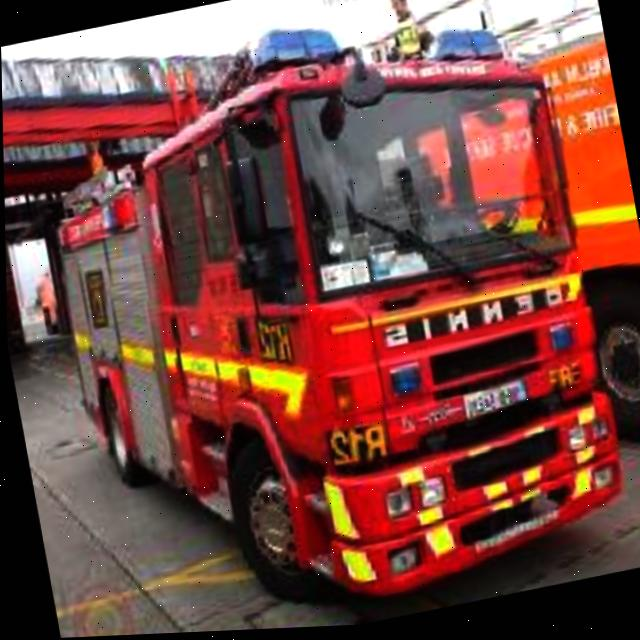emergency: (25, 0, 640, 639)
